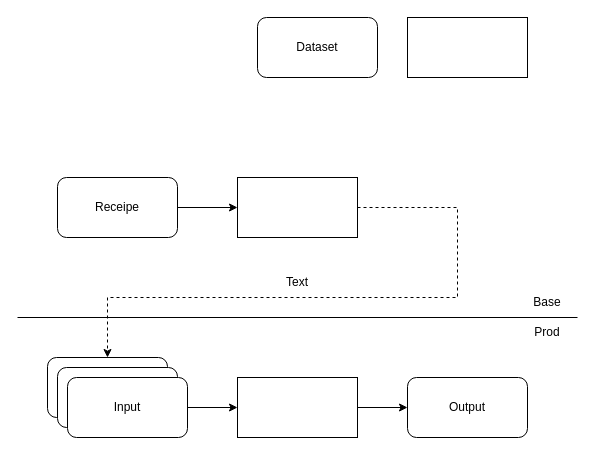
This 596x455 diagram has some shape labels left out. The shapes that lost their labels are listed below. From the top down, each one's box as (x1, y1, x2, y2) in pixels, then its label:
(406, 16, 528, 78): Processing
(236, 176, 358, 238): Fabricate data
(236, 376, 358, 438): Pipeline
